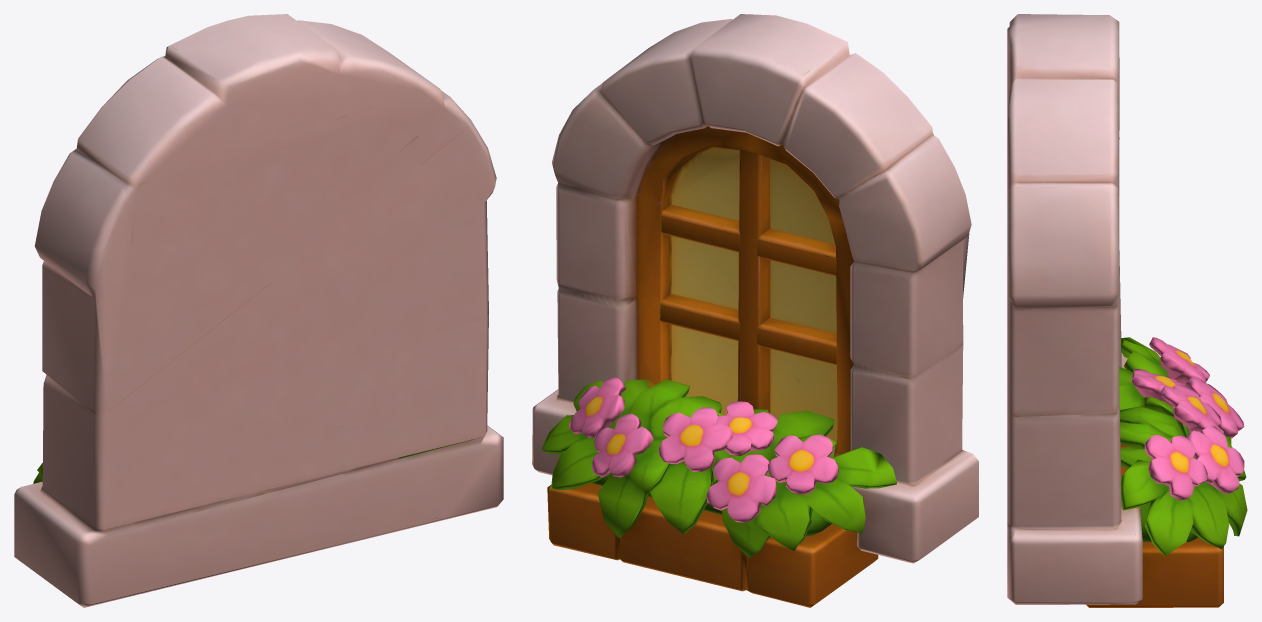
File: window_arch.glb
3 views of the same model, side by side, from view 1: azimuth 30°, elevation 25°; view 2: azimuth 150°, elevation 25°; view 3: azimuth 270°, elevation 25° (orthographic). The views are drawn at different scales.
Visible parts, largest first — view 1: geometry_0; view 2: geometry_0; view 3: geometry_0.
Part boxes in pixels (x1,y1,x2,y2): geometry_0: (14,14,503,607); geometry_0: (532,14,978,607); geometry_0: (1007,14,1247,607).
Bounding box in the file's own units: 0.7935 × 0.9521 × 0.4111.
Materials: 1 (1 with a texture image).
